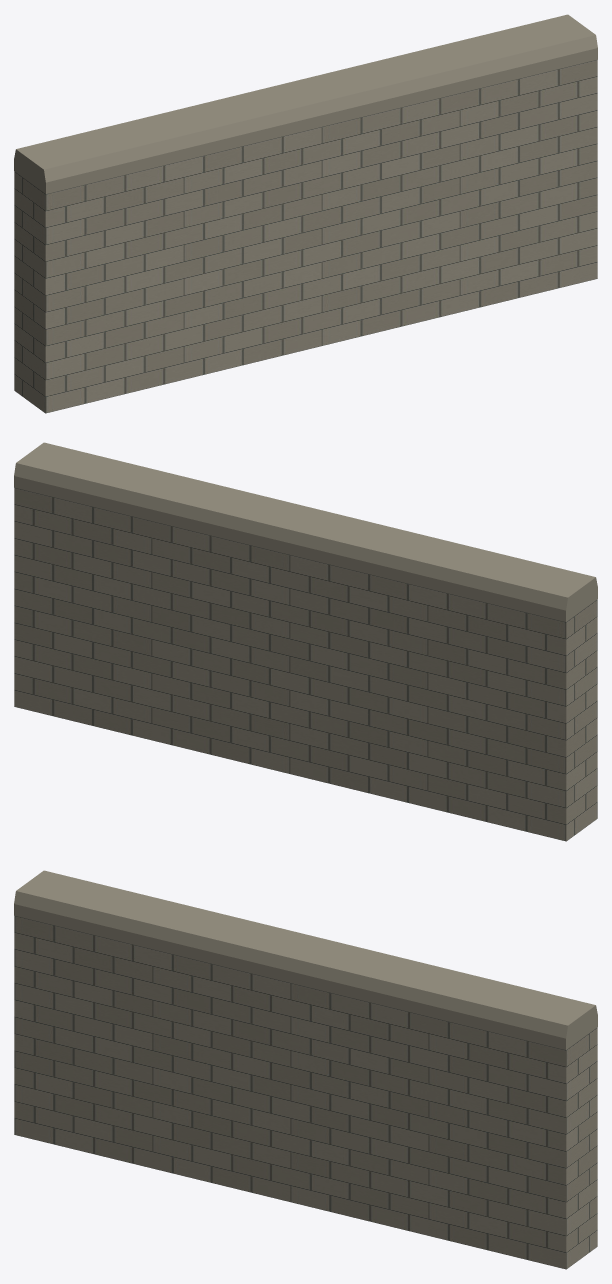
3 views of the same model, one above another, from view 1: azimuth 30°, elevation 25°; view 2: azimuth 150°, elevation 25°; view 3: azimuth 330°, elevation 25° (orthographic).
Visible parts, largest first — view 1: static_assembly_wall_native512_masonry_lod, static_assembly_wall_lod_coping; view 2: static_assembly_wall_native512_masonry_lod, static_assembly_wall_lod_coping; view 3: static_assembly_wall_native512_masonry_lod, static_assembly_wall_lod_coping.
Boxes of the visible parts, x1,y1,x2,y2 form: static_assembly_wall_native512_masonry_lod: [14, 59, 597, 413]; static_assembly_wall_lod_coping: [14, 14, 597, 193]; static_assembly_wall_native512_masonry_lod: [14, 487, 597, 841]; static_assembly_wall_lod_coping: [14, 442, 597, 621]; static_assembly_wall_native512_masonry_lod: [14, 915, 597, 1269]; static_assembly_wall_lod_coping: [14, 870, 597, 1049].
Size of the model in its own units: 10 by 4.2 by 1.
Materials: 2 (1 with a texture image).
